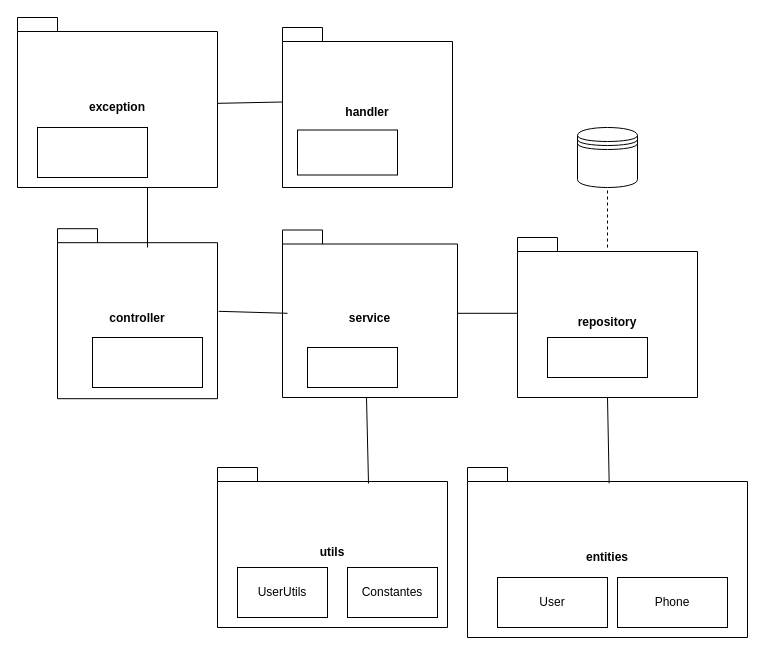
Some shapes in this 765 by 655 pixel diagram are drawn without their labels. The shapes that lost their labels are listed below. From the top down, each one's centre as x and y in pixels, then its label:
At [92,152]: "GeneralException".
At [347,152]: "ResponseHandler".
At [607,157]: "H2".
At [147,362]: "UserController".
At [352,367]: "UserService".
At [597,357]: "UserRepository".
